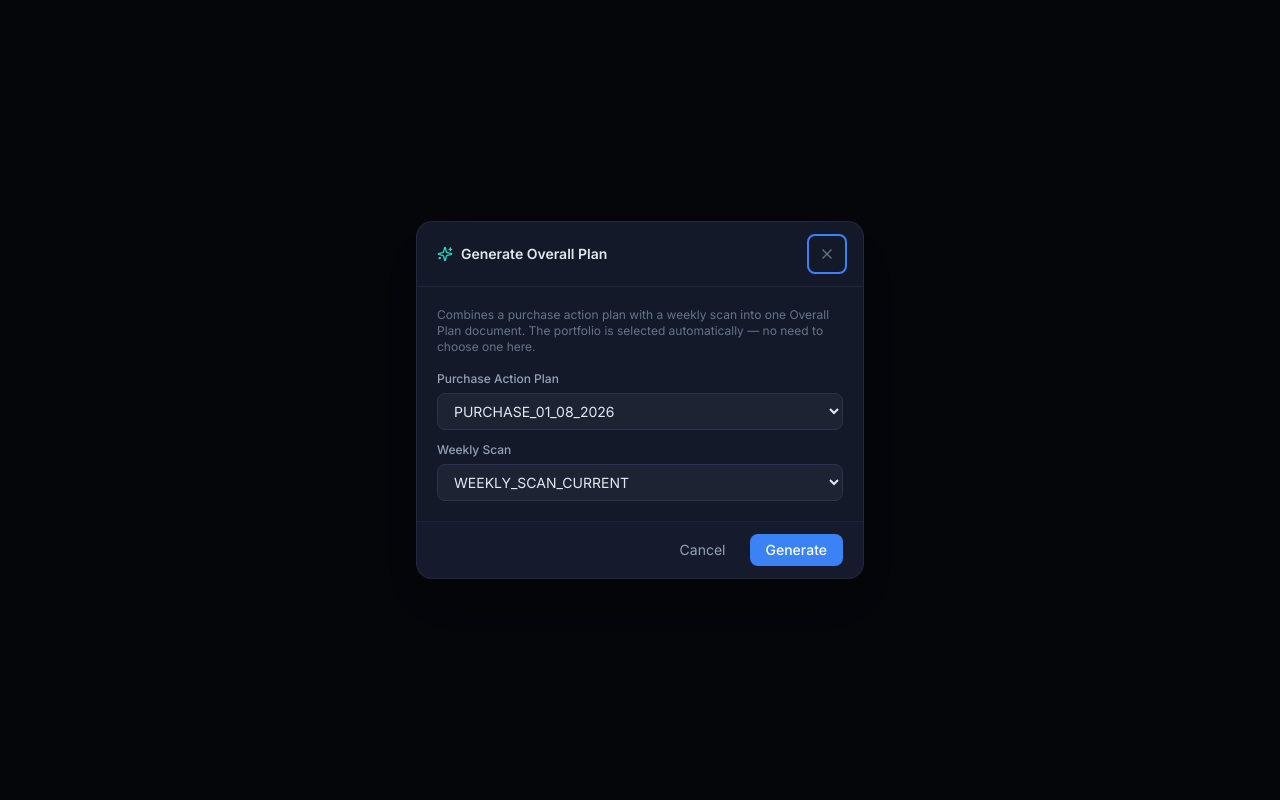
Test case: GenerateOverallPlanModal — error responses › renders the 422 "no default portfolio" message inline
The width and height of the screenshot is (1280, 800).
What coordinates should you click on to do the following:
click the button "Generate"
I would click on:
 (796, 550)
Its box is [750,534,843,566].
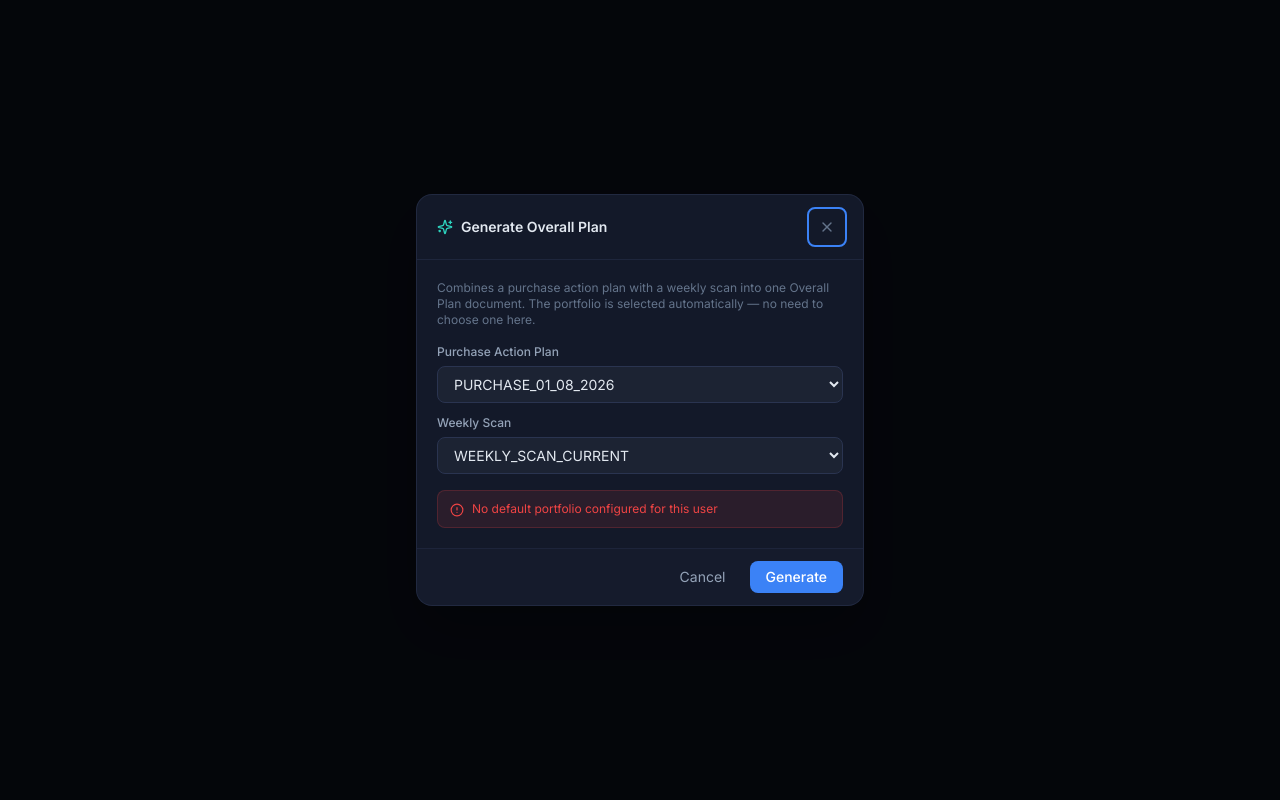
Now the text "No default portfolio configured for this user" is shown, box [437,490,843,528]
